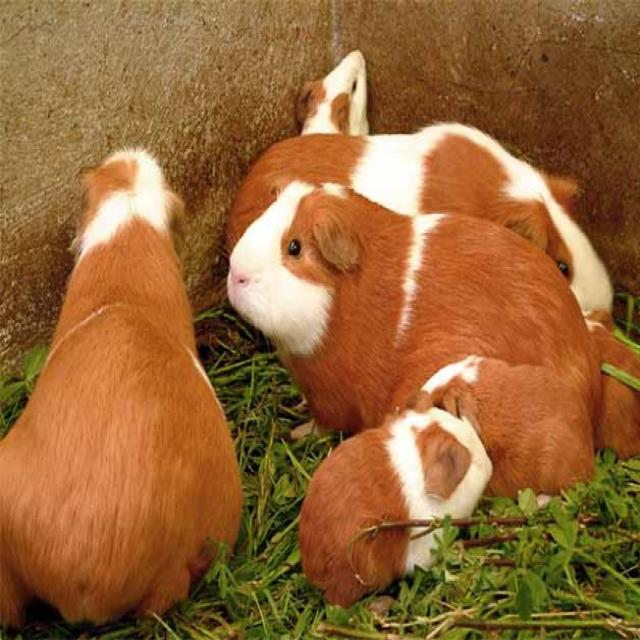guinea pig: (1, 96, 240, 615), (220, 174, 602, 443), (302, 411, 514, 600)
